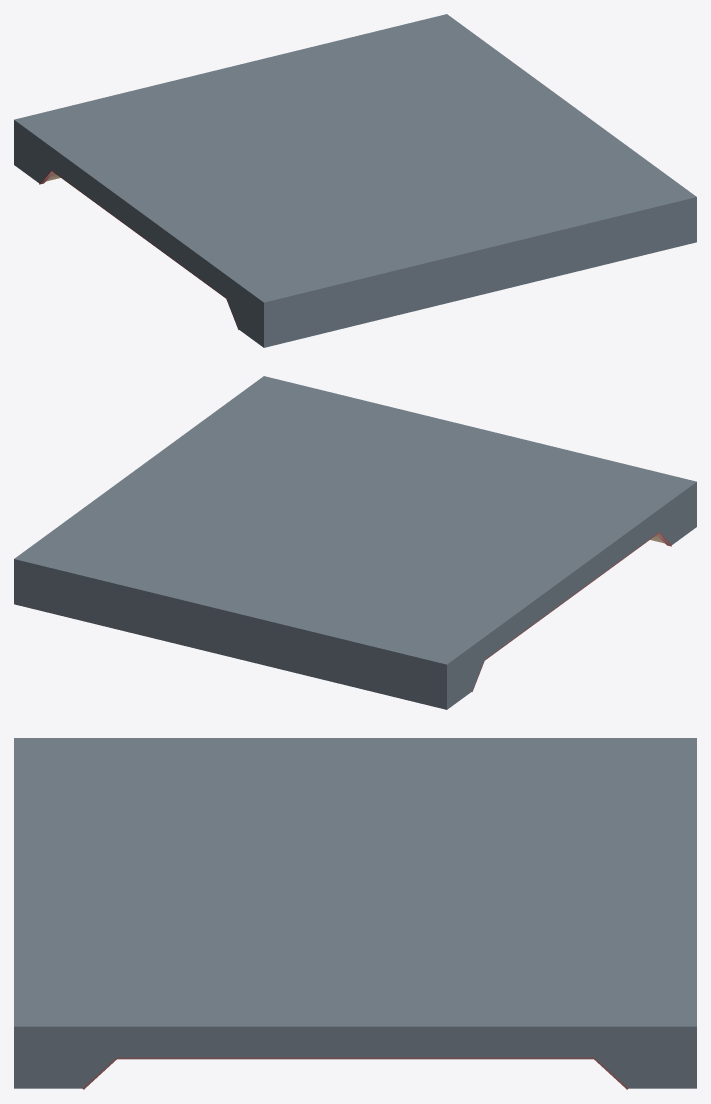
Rendered from Cieling.fbx.
3 renders of one model, top to bottom at view 1: azimuth 30°, elevation 25°; view 2: azimuth 150°, elevation 25°; view 3: azimuth 270°, elevation 25°, orthographic. The views are drawn at different scales.
Parts seen in each view (by area): view 1: Cieling; view 2: Cieling; view 3: Cieling.
Part boxes in pixels (x1,y1,x2,y2): Cieling: (14,14,696,347); Cieling: (14,376,696,709); Cieling: (14,738,696,1089).
Bounding box in the file's own units: 1000 × 102 × 1000.
